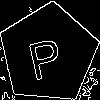P: (24, 29, 66, 81)
